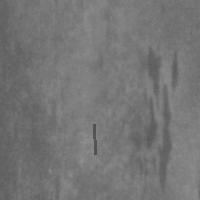inclusion: (135, 43, 180, 196), (92, 122, 97, 156)
